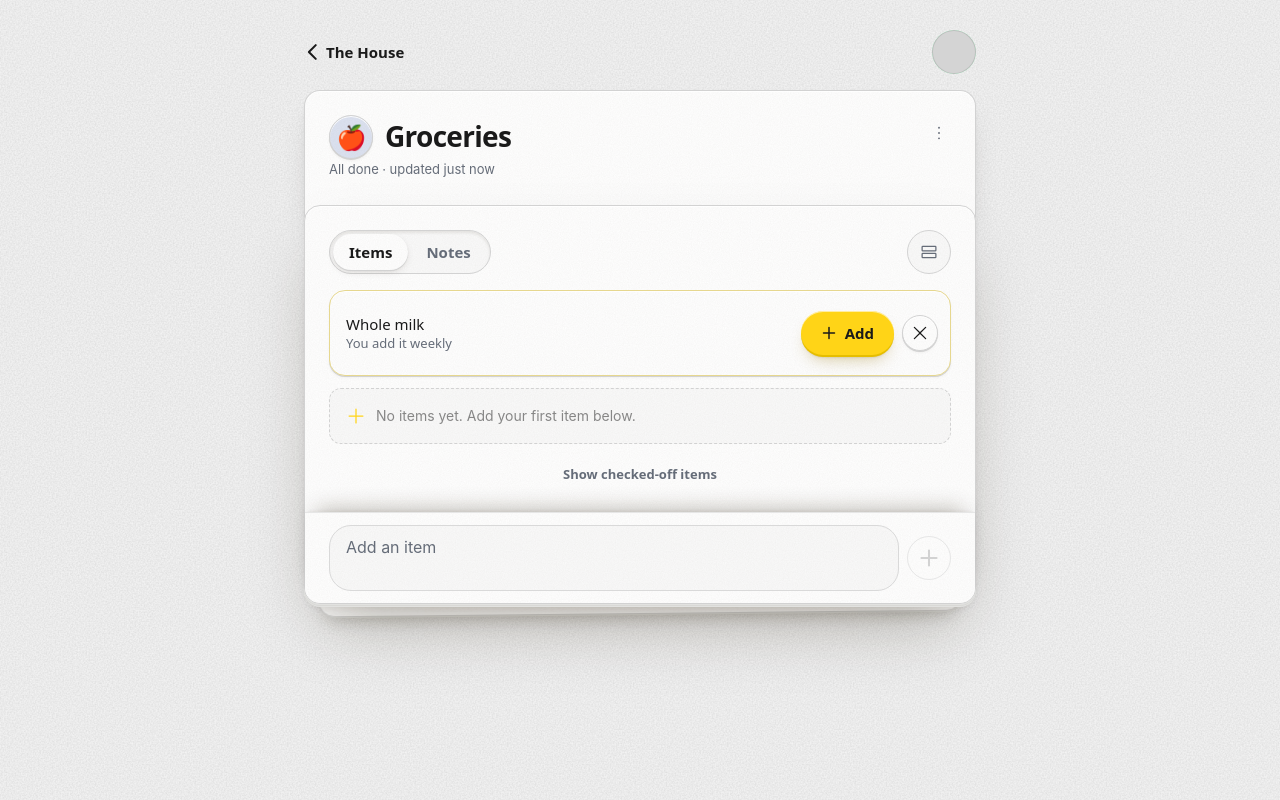
Test: ListPage smart suggestions › ignoring pops the slip and the next one comes from the server
Click the button named "Ignore suggestion: Whole milk" at (920, 333), box [902,315,938,351]
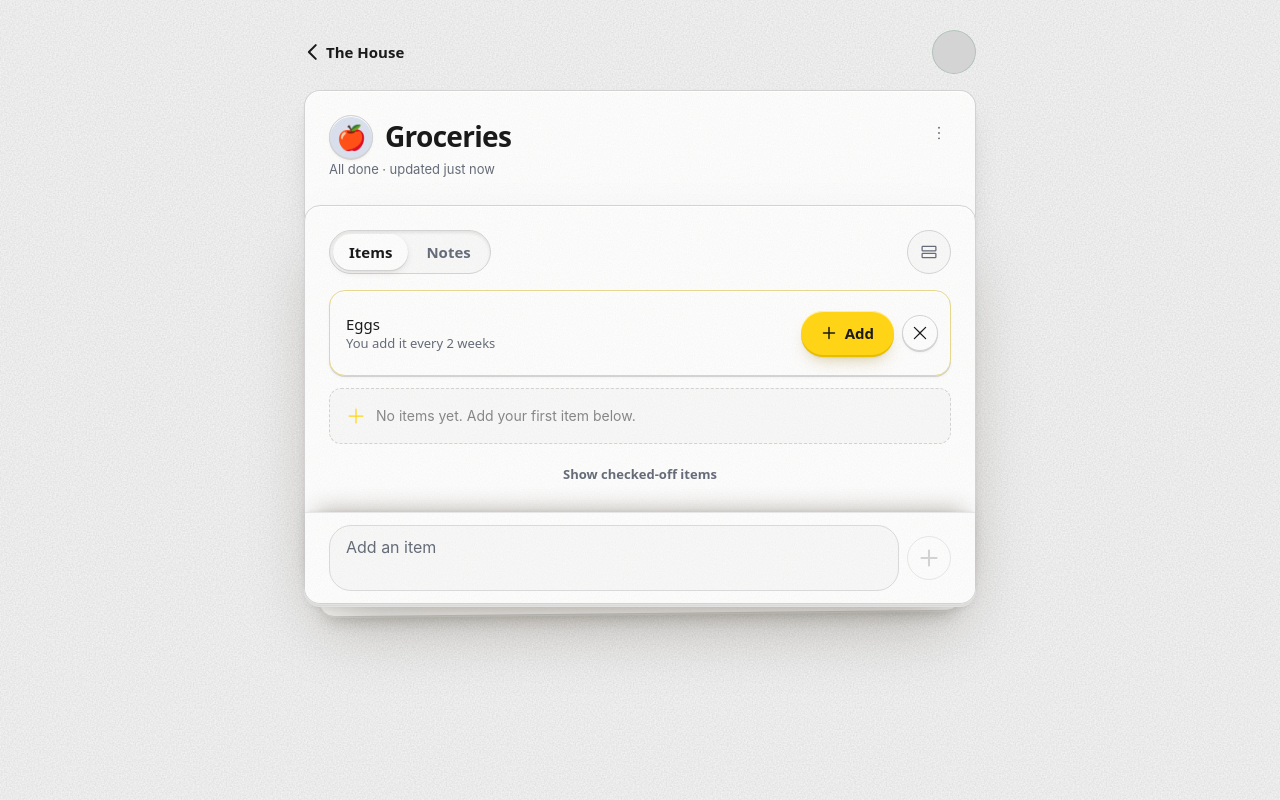
Now the text "Eggs" is shown, box [346,314,380,334]
Now the text "Whole milk" is gone
